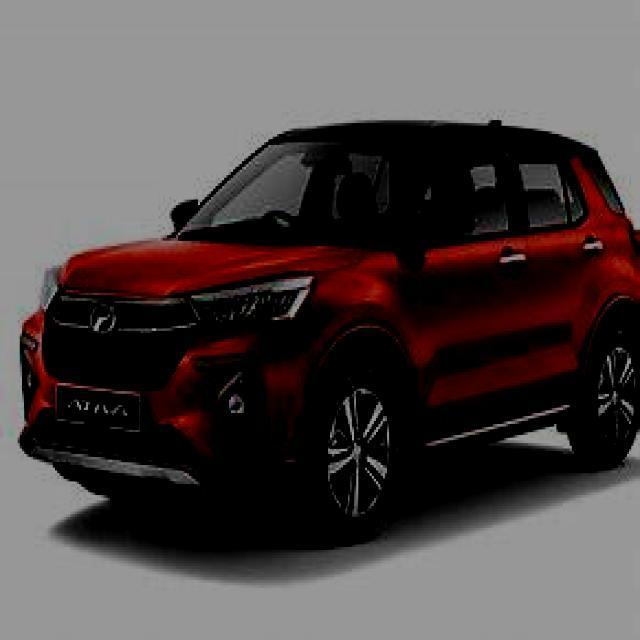PeroduaAtiva: (16, 117, 639, 542)
